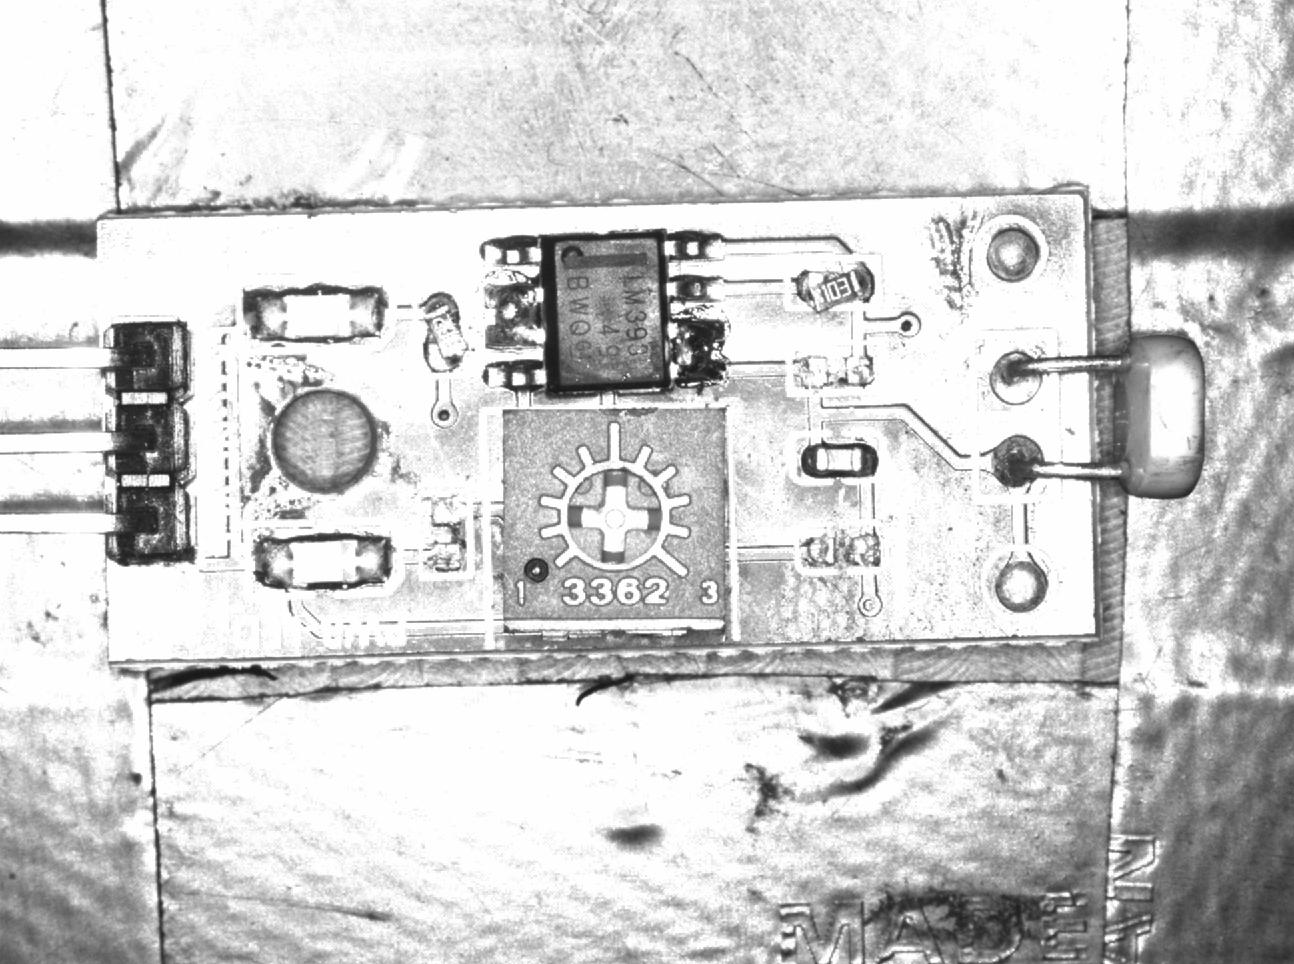bridge: (482, 280, 545, 351), (669, 316, 728, 388)
lifted: (788, 256, 881, 314), (414, 289, 469, 377)
miss: (794, 523, 895, 577), (416, 487, 475, 579), (788, 341, 884, 396)
ok: (790, 433, 883, 483)
